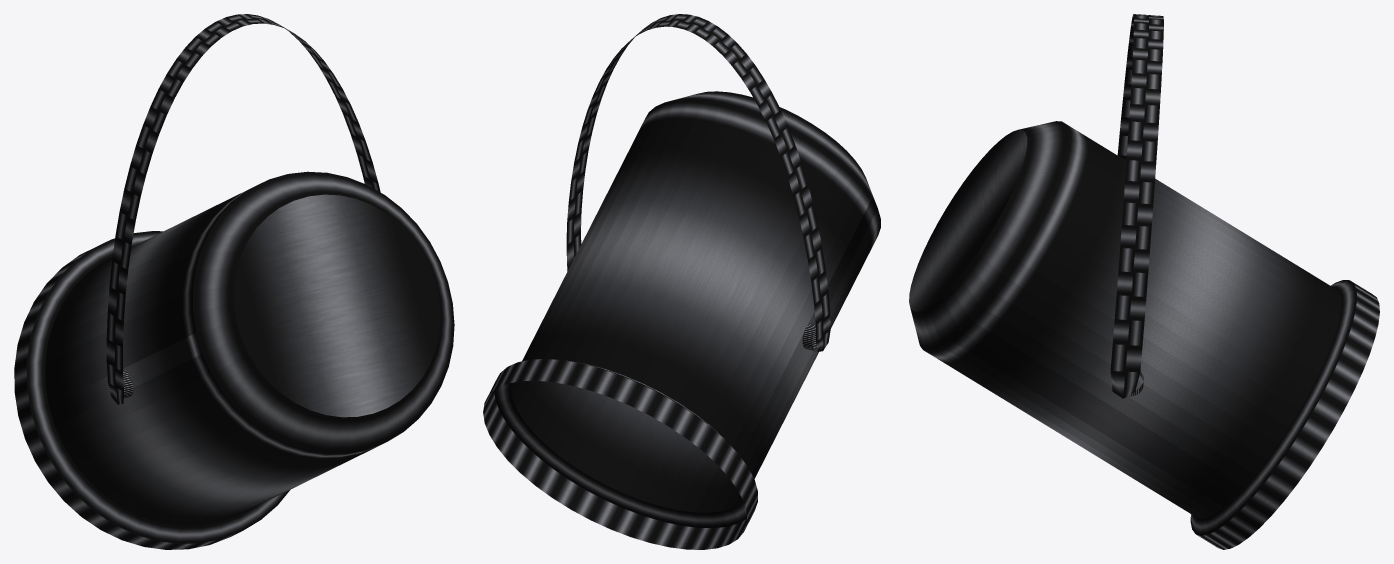
Rendered from stage_light_1.obj.
3 views of the same model, side by side, from view 1: azimuth 30°, elevation 25°; view 2: azimuth 150°, elevation 25°; view 3: azimuth 270°, elevation 25° (orthographic). The views are drawn at different scales.
Parts seen in each view (by area): view 1: luz003; view 2: luz003; view 3: luz003.
Part boxes in pixels (box(x1,y1,x2,y2)): luz003: box(14, 14, 454, 549); luz003: box(483, 14, 880, 549); luz003: box(909, 14, 1379, 549).
Bounding box in the file's own units: 0.7365 × 1.4 × 1.17.
